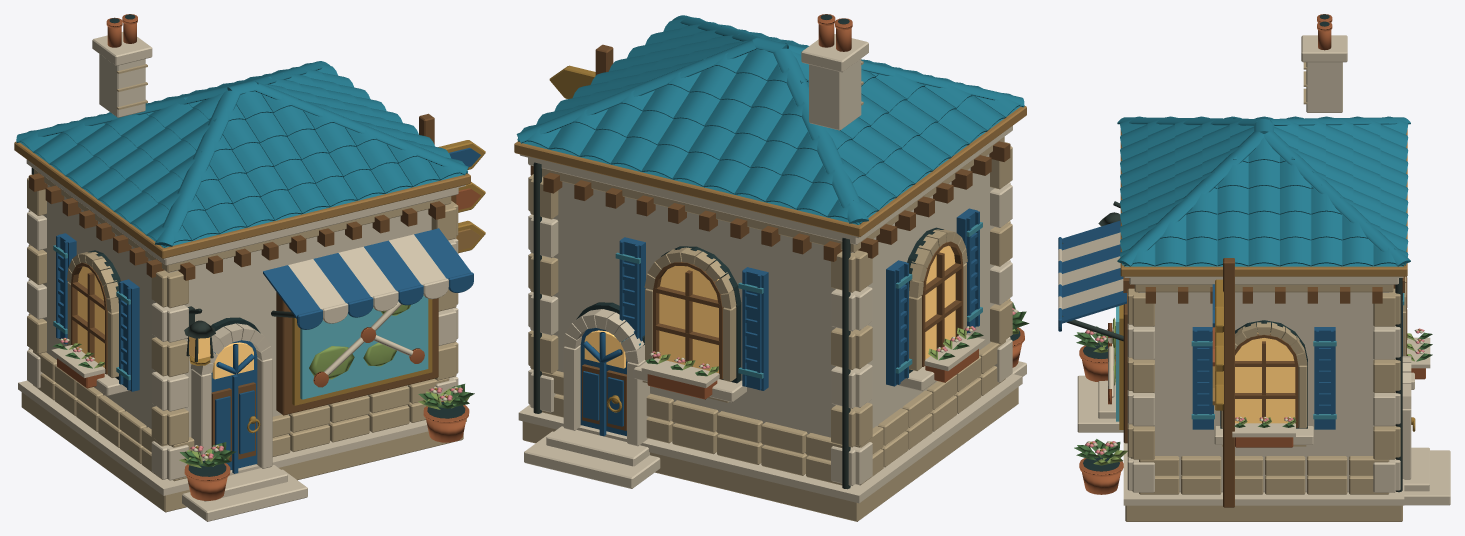
3 renders of one model, left to right at view 1: azimuth 30°, elevation 25°; view 2: azimuth 150°, elevation 25°; view 3: azimuth 270°, elevation 25°, orthographic. The views are drawn at different scales.
Visible parts, largest first — view 1: harbor_junction_hub_geometry, harbor_junction_hub_geometry ceramic; view 2: harbor_junction_hub_geometry, harbor_junction_hub_geometry ceramic; view 3: harbor_junction_hub_geometry, harbor_junction_hub_geometry ceramic.
Boxes of the visible parts, box(x1,y1,x2,y2) form: harbor_junction_hub_geometry: box(14, 14, 485, 521); harbor_junction_hub_geometry ceramic: box(16, 61, 468, 380); harbor_junction_hub_geometry: box(514, 14, 1029, 521); harbor_junction_hub_geometry ceramic: box(516, 15, 1024, 378); harbor_junction_hub_geometry: box(1058, 14, 1450, 521); harbor_junction_hub_geometry ceramic: box(1117, 116, 1410, 419).
Size of the model in its own units: 1.04 by 1.02 by 0.9257.
